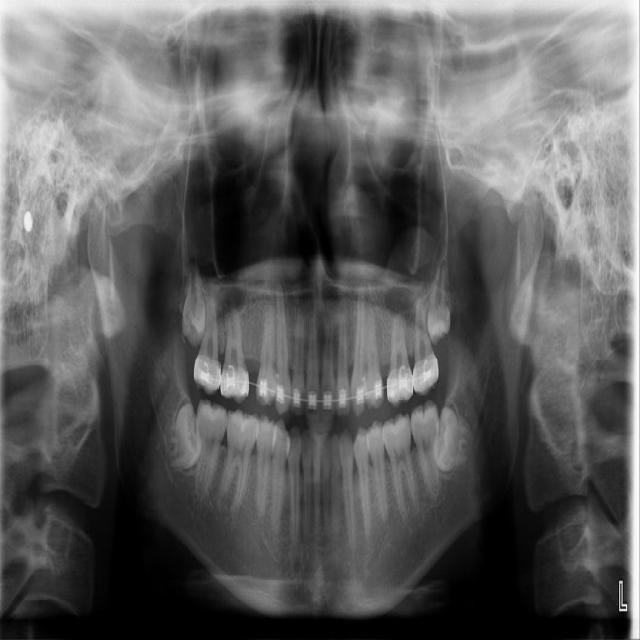impacted tooth: (433, 408, 479, 475), (425, 255, 452, 342)
